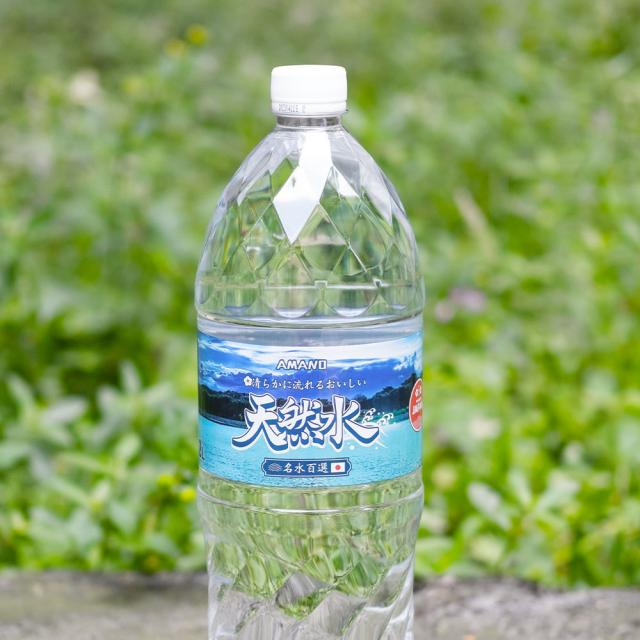plastic: (193, 64, 430, 640)
